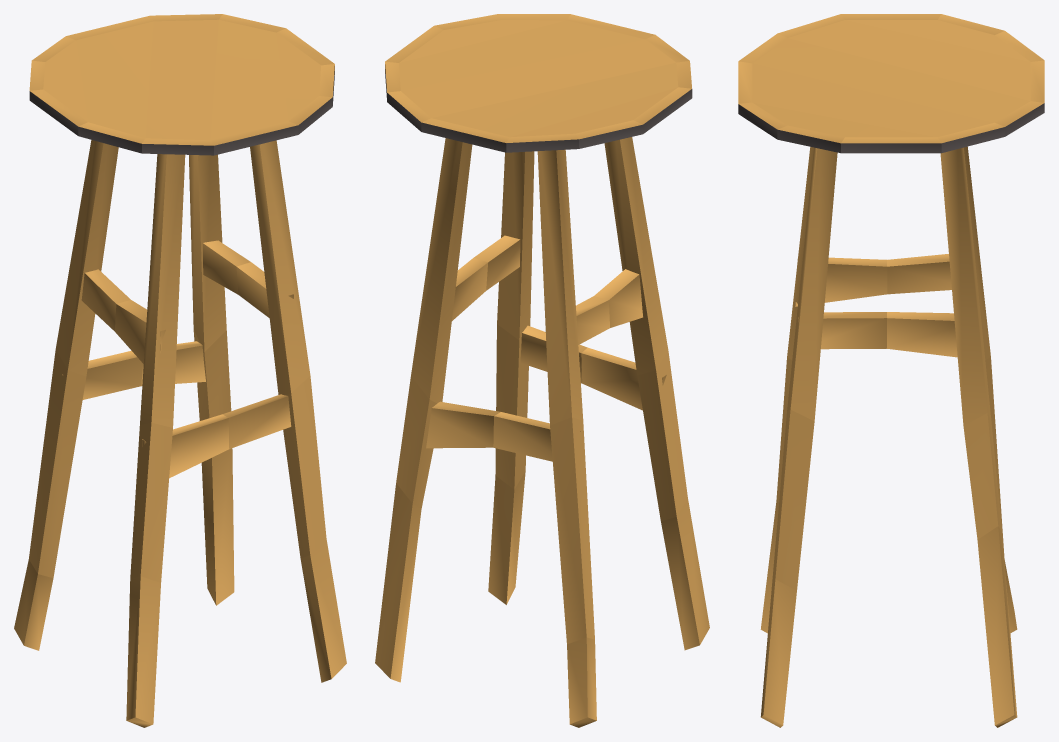
The model's file is Stall_2_2.fbx.
3 views of the same model, side by side, from view 1: azimuth 30°, elevation 25°; view 2: azimuth 150°, elevation 25°; view 3: azimuth 270°, elevation 25° (orthographic). The views are drawn at different scales.
Parts seen in each view (by area): view 1: Stall_2_2; view 2: Stall_2_2; view 3: Stall_2_2.
Part boxes in pixels (x1,y1,x2,y2): Stall_2_2: [14, 14, 346, 727]; Stall_2_2: [375, 14, 709, 727]; Stall_2_2: [738, 14, 1044, 727].
Bounding box in the file's own units: 39.71 × 87.07 × 39.77.
